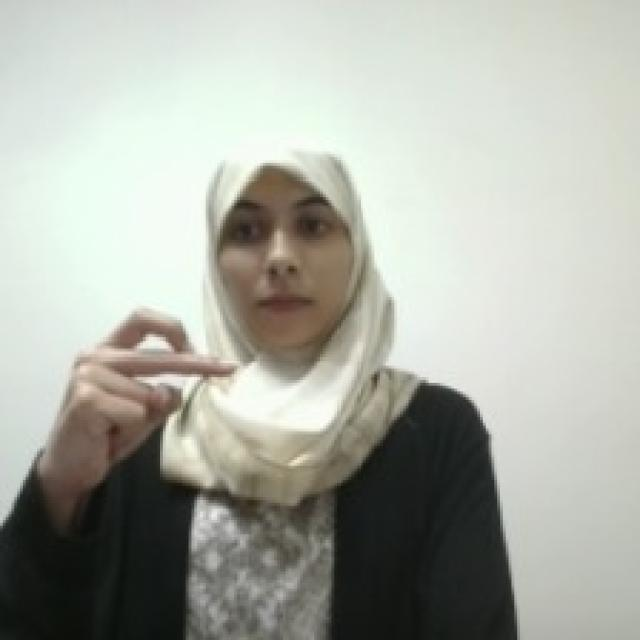sunday: (38, 298, 242, 499)
